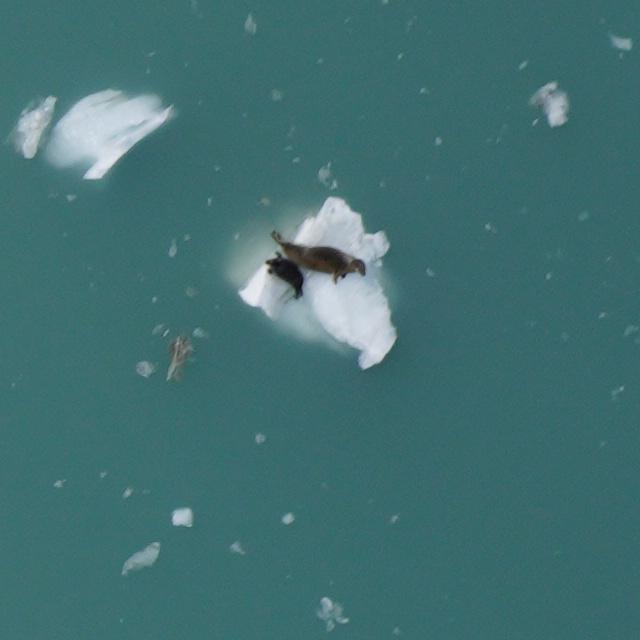seal: (260, 218, 373, 297), (260, 246, 316, 302)
